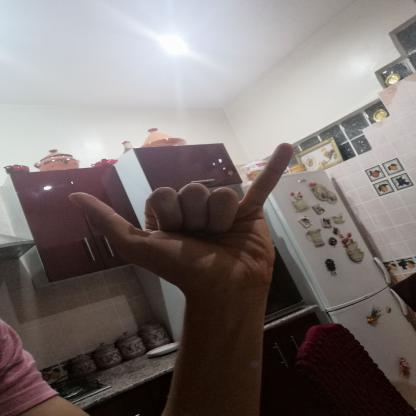YA: (52, 130, 323, 315)
